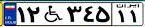character: (44, 5, 64, 24), (66, 4, 83, 25), (95, 4, 112, 25), (83, 4, 96, 25), (27, 4, 41, 23), (17, 5, 27, 25), (116, 9, 126, 24), (128, 9, 138, 24)
